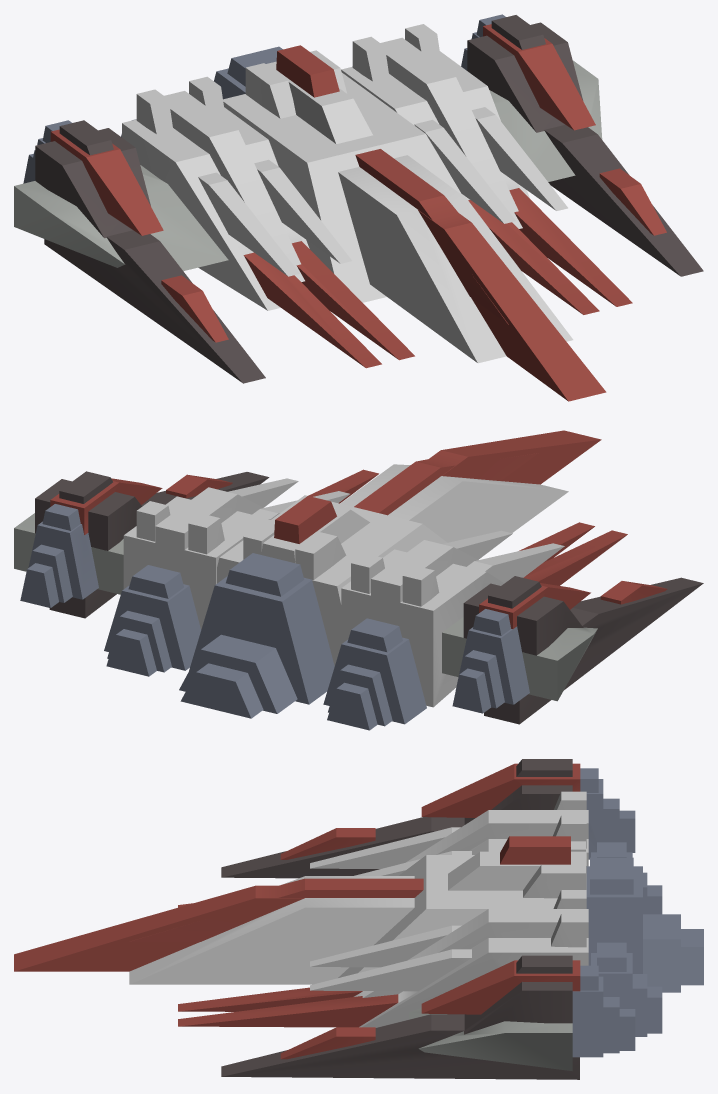
Rendered from Ship_Balance.fbx.
3 views of the same model, one above another, from view 1: azimuth 30°, elevation 25°; view 2: azimuth 150°, elevation 25°; view 3: azimuth 270°, elevation 25° (orthographic). The views are drawn at different scales.
Visible parts, largest first — view 1: pCube266; view 2: pCube266; view 3: pCube266.
Boxes of the visible parts, x1,y1,x2,y2 form: pCube266: (14,14,703,401); pCube266: (14,430,703,730); pCube266: (14,759,703,1079).
Bounding box in the file's own units: 5.89 × 1.46 × 6.89.
